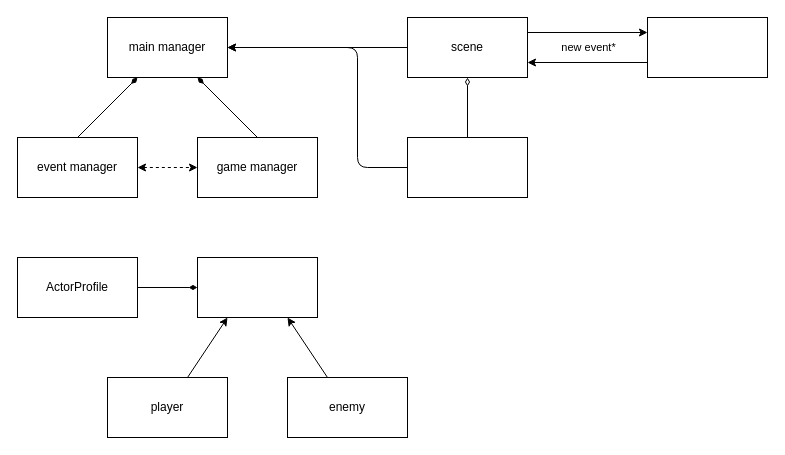
Some shapes in this 785 by 455 pixel diagram are drawn without their labels. The box of each missing label's shape, as (x1, y1, x2, y2) in pixels:
ActorController: (196, 256, 318, 318)
another scene: (646, 16, 768, 78)
ui handler: (406, 136, 528, 198)
